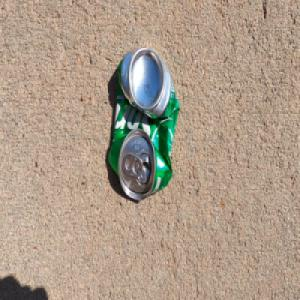SodaCan: (107, 45, 179, 203)
